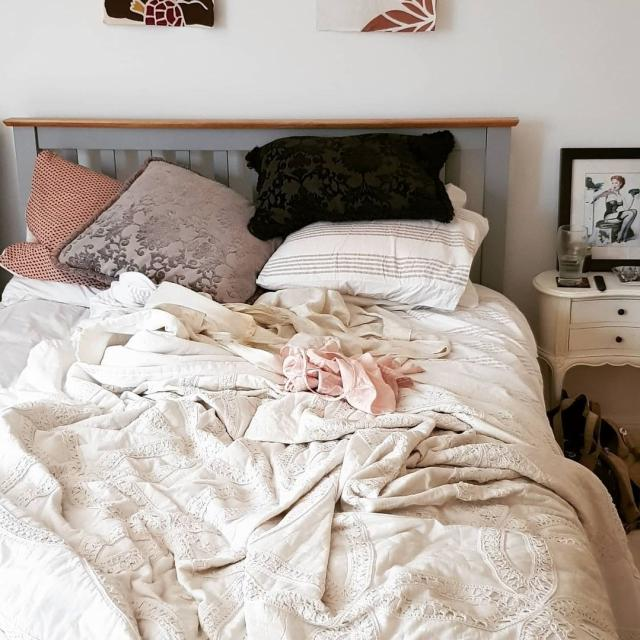bed: (0, 122, 525, 640)
